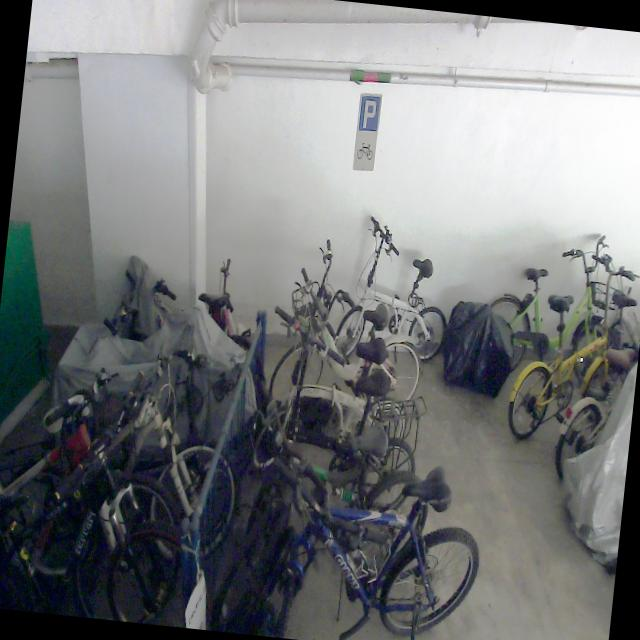bike: (1, 329, 250, 576), (208, 441, 487, 640), (0, 354, 201, 620), (242, 389, 440, 574), (268, 232, 433, 412), (252, 304, 416, 482), (504, 243, 640, 449), (478, 220, 630, 402), (333, 212, 458, 368)
